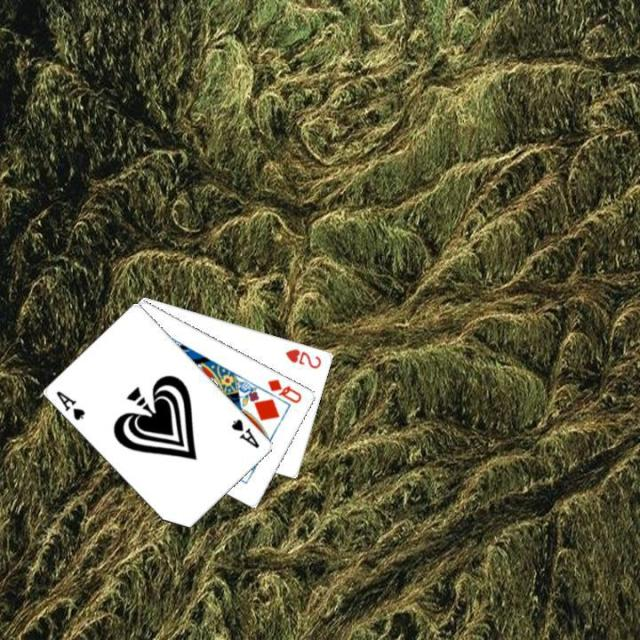2H: (282, 345, 324, 371)
AS: (228, 415, 262, 450), (53, 387, 87, 422)
QD: (264, 375, 304, 405)
